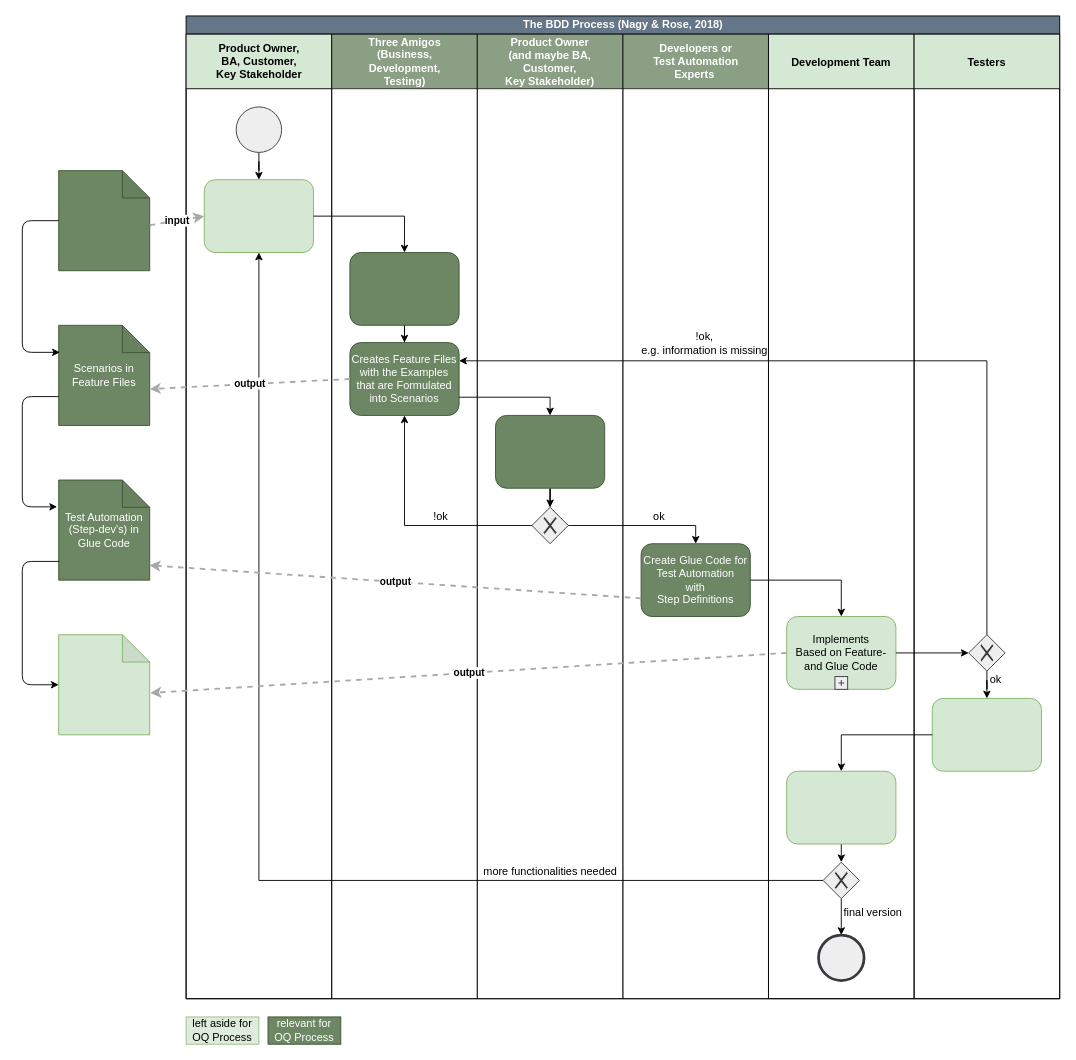
The diagram is 1076 pixels wide and 1060 high, and some of its shapes have lost their labels. Each missing label, with the centre of its shape:
Defines Acceptance Criteria/Rules to be Illustrated by Examples: pixel 404 288
Pick a User Story: pixel 258 216
Release: pixel 841 807
Reviews: pixel 550 451
Source Code: pixel 104 684
Supplementary Test: pixel 986 734
User Story: pixel 104 220
